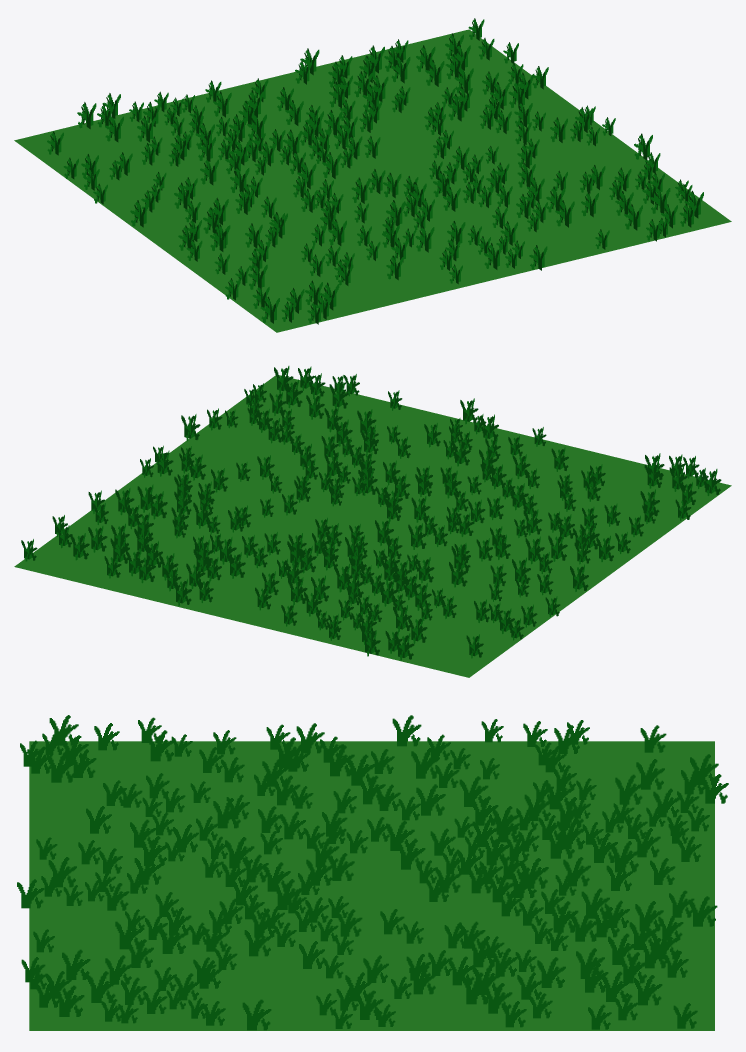
Rendered from Grass.fbx.
3 views of the same model, one above another, from view 1: azimuth 30°, elevation 25°; view 2: azimuth 150°, elevation 25°; view 3: azimuth 270°, elevation 25° (orthographic). The views are drawn at different scales.
Visible parts, largest first — view 1: Grass; view 2: Grass; view 3: Grass.
Boxes of the visible parts, bbox=[...] form: Grass: bbox=[14, 18, 731, 332]; Grass: bbox=[14, 366, 731, 677]; Grass: bbox=[17, 715, 728, 1030].
Bounding box in the file's own units: 2079 × 107 × 2094.
